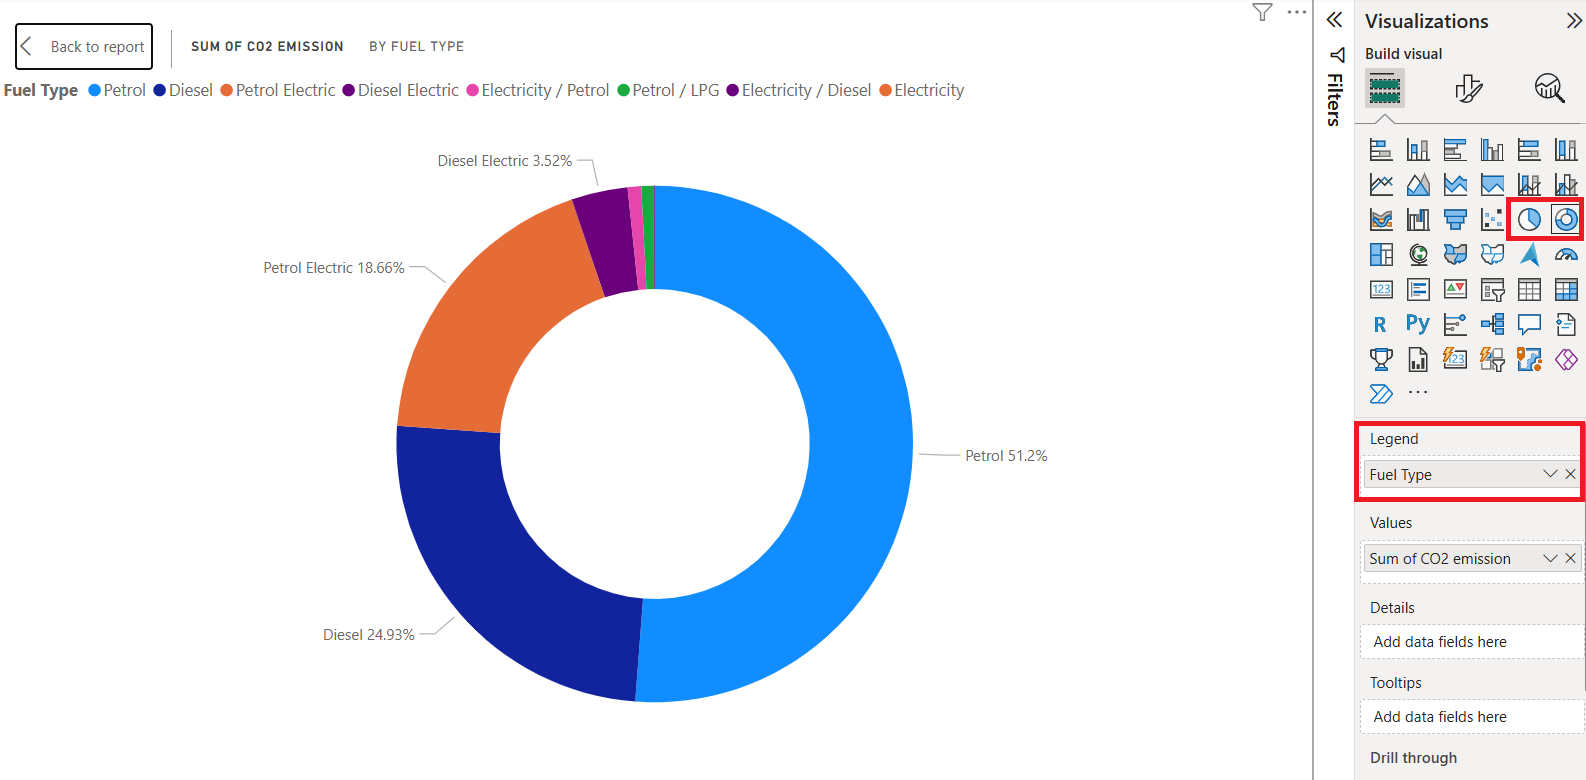

The dashboard page shown, as its layout file describes it:
{"tool":"powerbi","page":{"name":"Donut Chart","canvas":[1280,720],"ordinal":3},"visuals":[{"type":"donutChart","fields":{"Category":["Vehicles.Fuel Type"],"Y":["Sum(Vehicles.CO2 emission)"]},"box":[9.8,0,1270.5,720.2],"z":0}]}

Visuals, with their boxes on the page's 1280x720 design canvas (x1, y1, x2, y2). These are canvas units, not pixel positions in the 1586x780 screenshot, which may show the page scaled, cropped or inside an application window:
donutChart - Vehicles.Fuel Type x Sum(Vehicles.CO2 emission): detection(10, 0, 1280, 720)
